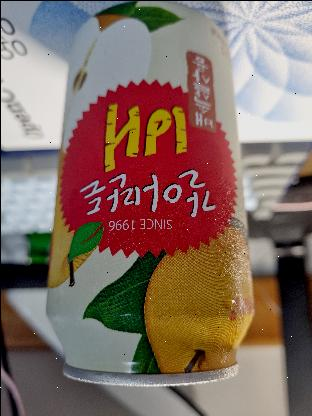Can: (50, 5, 242, 379)
